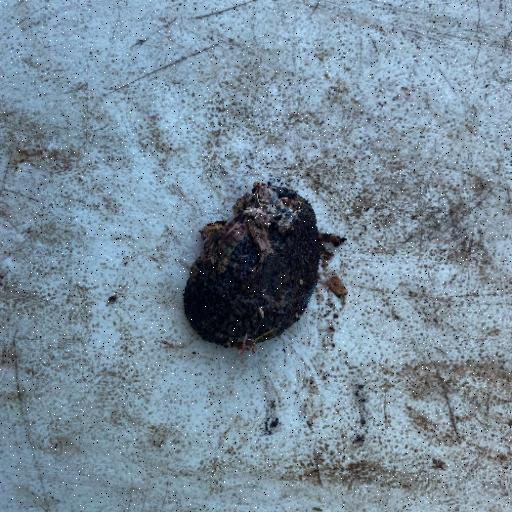Waste: (181, 180, 323, 352)
